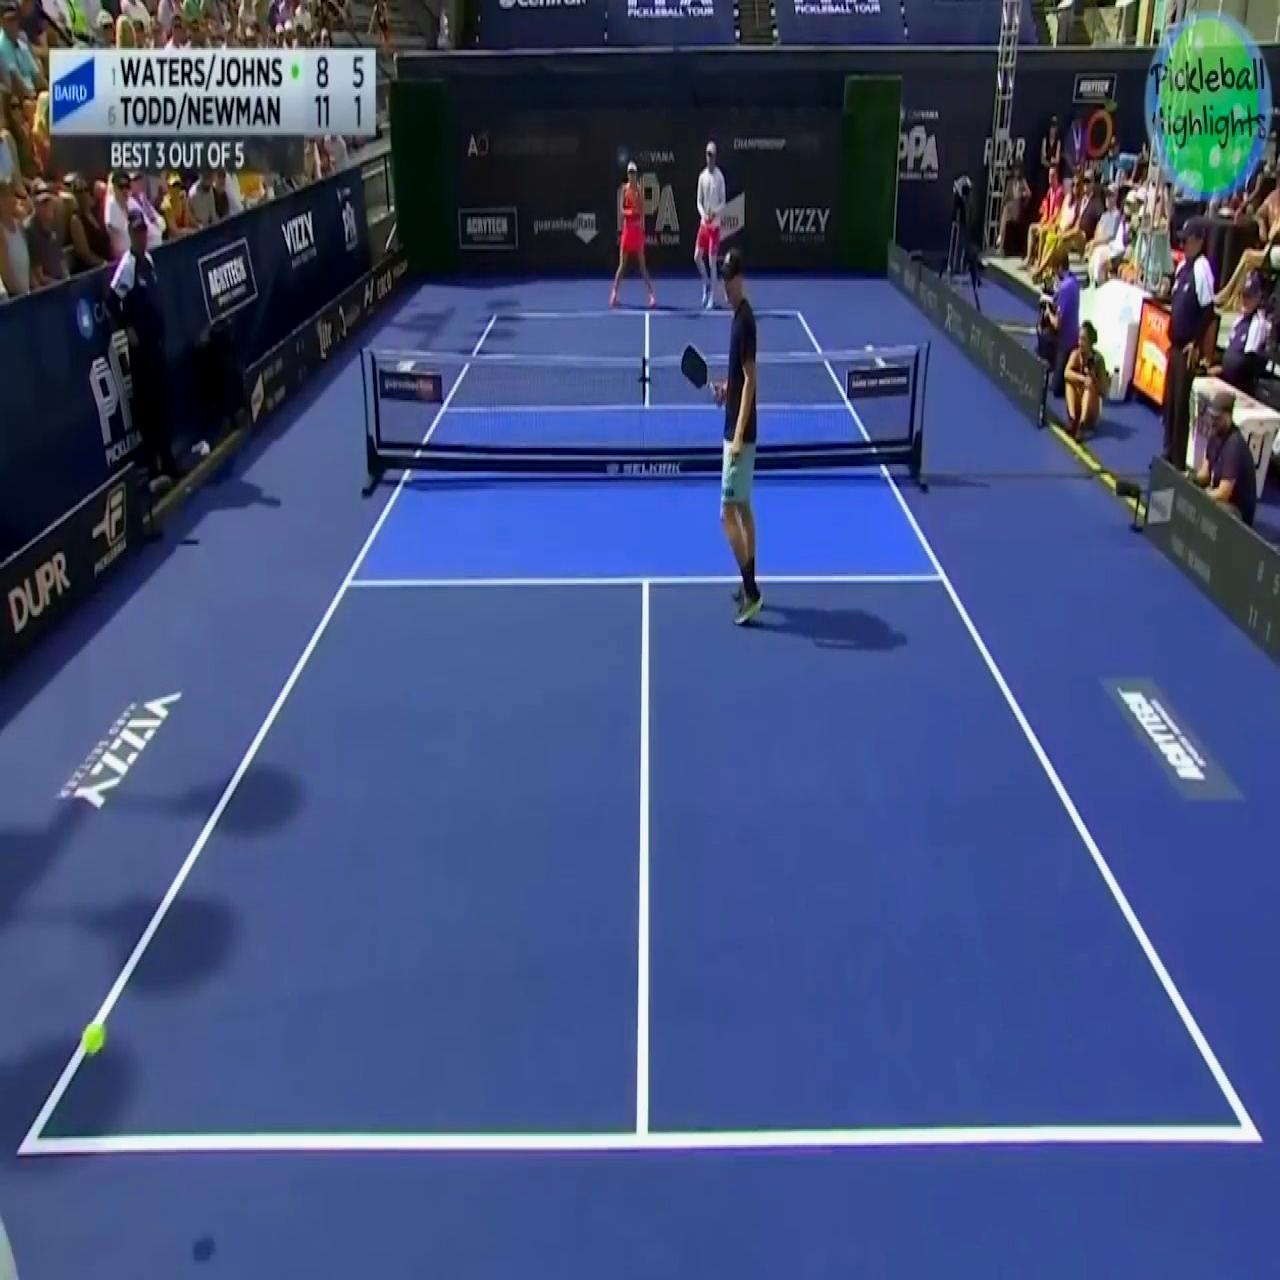Pickleball: (82, 1015, 108, 1058)
